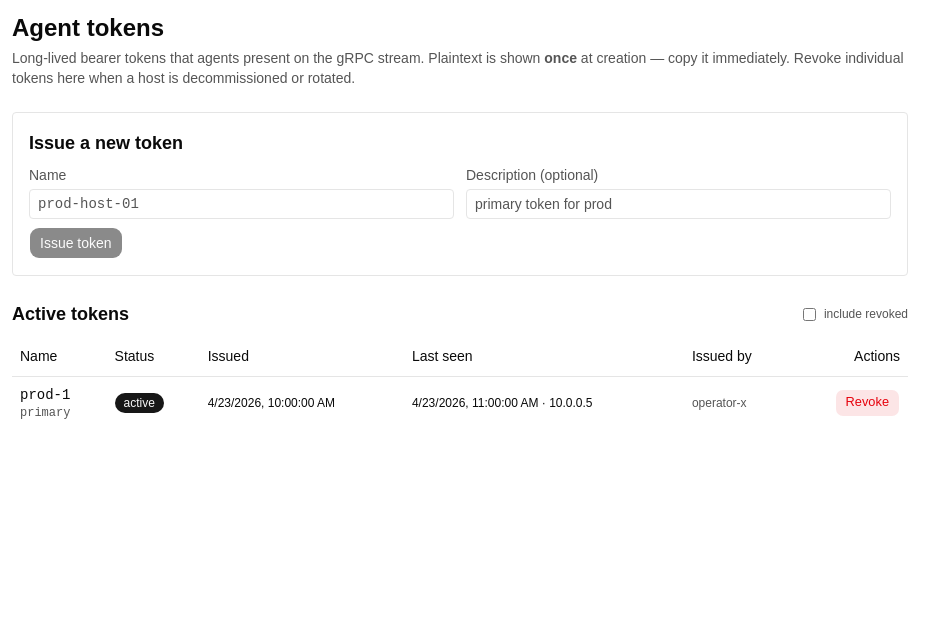
Scenario: AgentTokensPage › issues a token and surfaces the plaintext banner
This screenshot has width=925, height=633.
Expected: the heading "Agent tokens" is shown, top-left (12, 14), bottom-right (164, 41)
In the field with placeholder "prod-host-01": (242, 204) top-left (29, 189), bottom-right (454, 219), type "new-host"
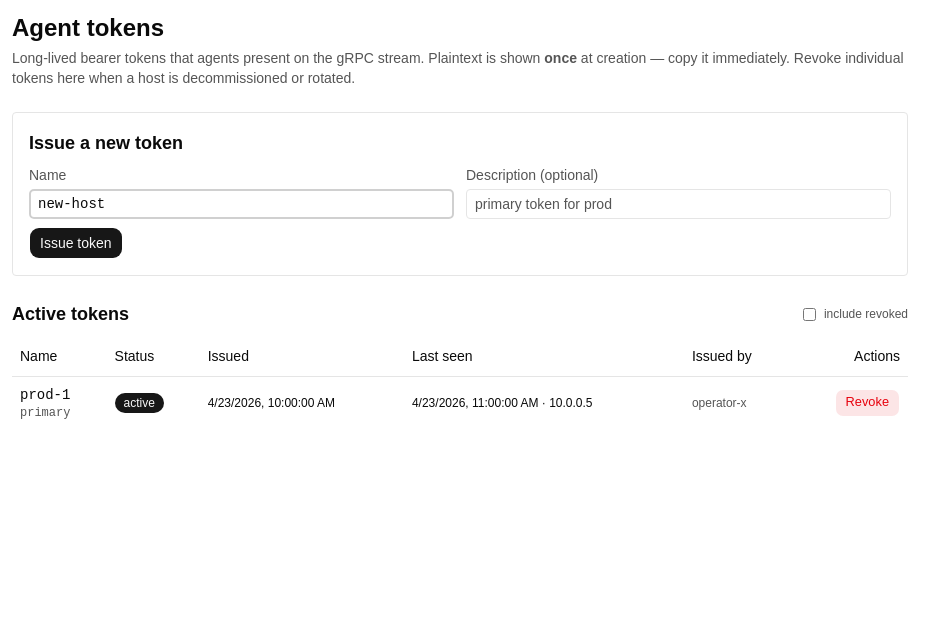
Click the button "Issue token": (76, 243) top-left (29, 227), bottom-right (123, 259)
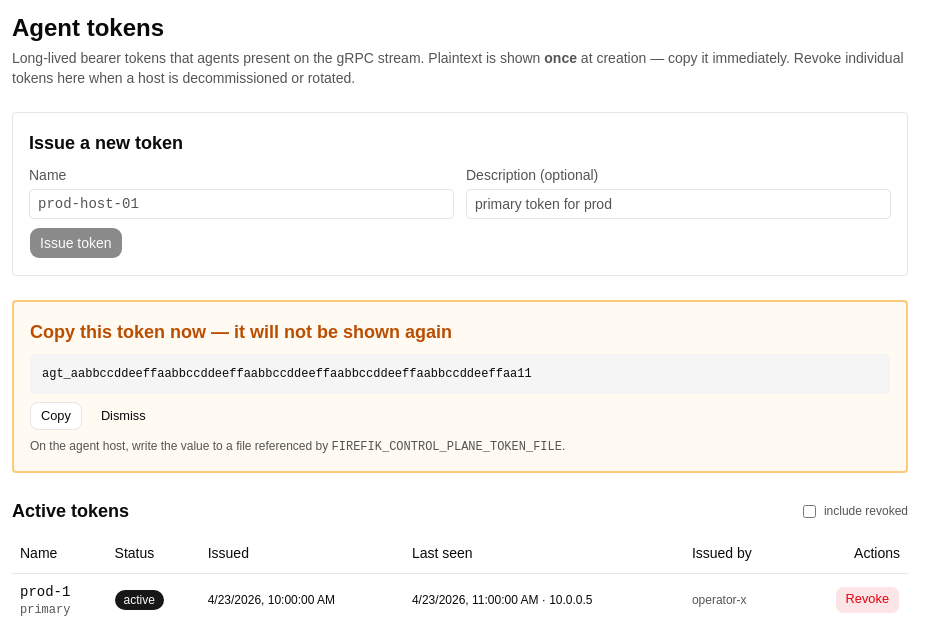
Expected: the heading "Copy this token now — it will not be shown again" is shown, top-left (30, 322), bottom-right (452, 342)
Expected: the text "agt_aabbccddeeff" is shown, top-left (42, 367), bottom-right (532, 381)
